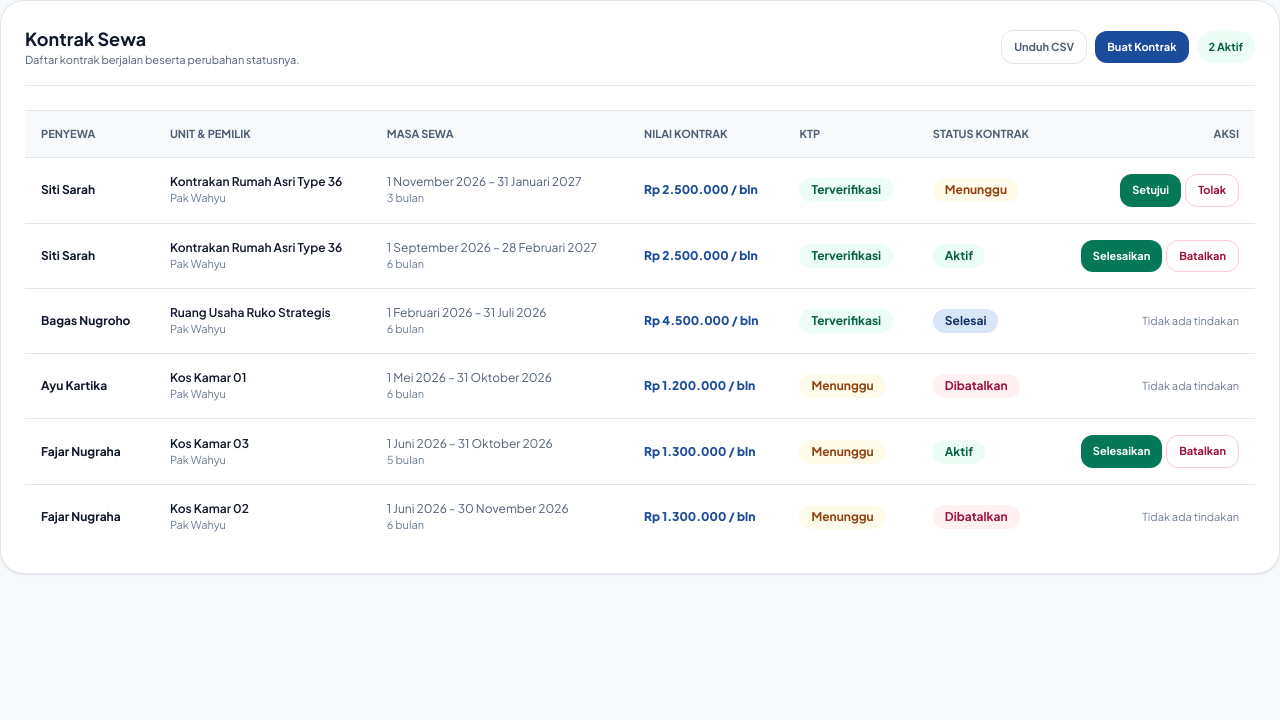
Test: OwnerContractsPage › menampilkan kontrak dan menyetujui yang masih menunggu
The width and height of the screenshot is (1280, 720).
Click the button "Setujui": (1151, 191) [1120,174,1181,207]
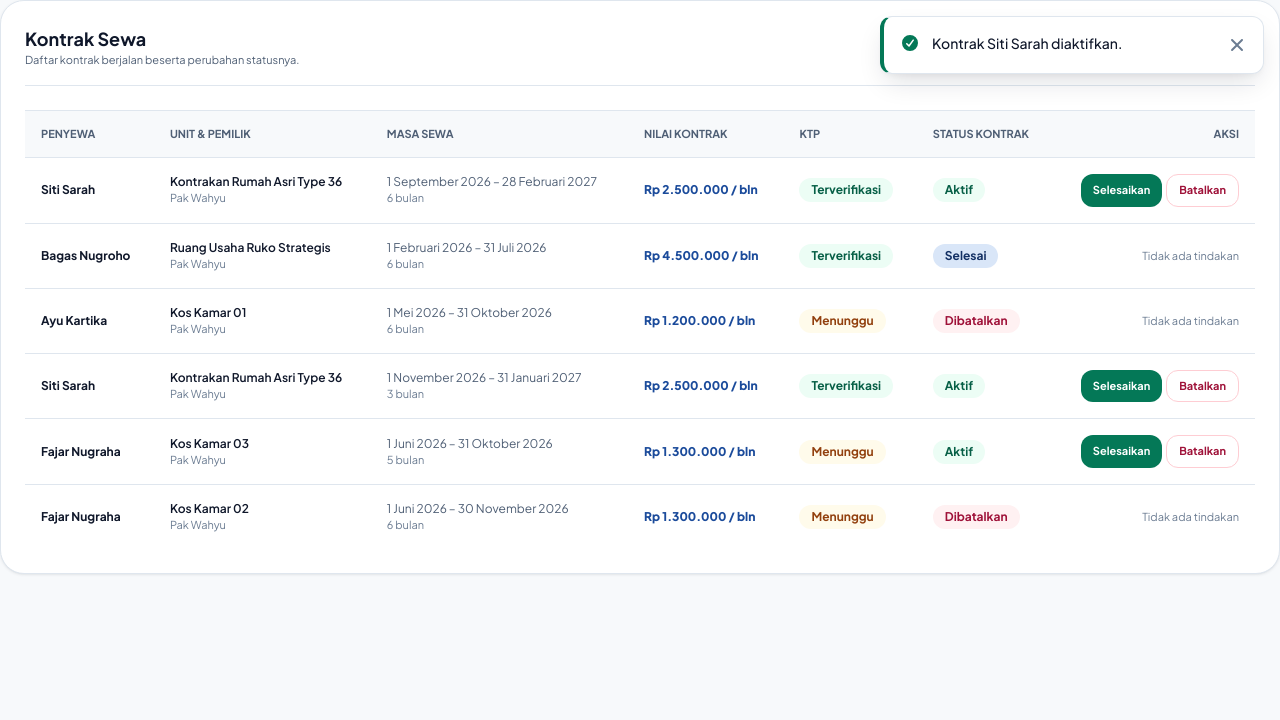
Expected: the button "Unduh CSV" is shown, [1001,30,1087,64]
Now the text "Aktif" in the row of "1 November 2026" is shown, box [945,378,973,393]
